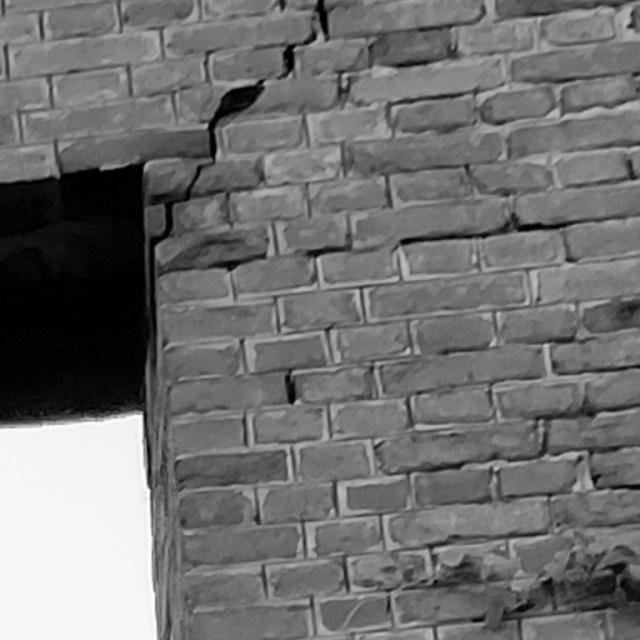crack: (146, 1, 327, 370), (161, 212, 582, 275)
